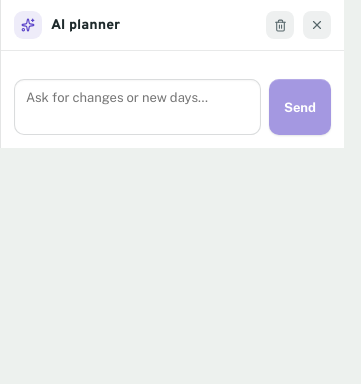
Test: ChatPanel › offers a Try again chip when the turn fails with a transient error
The width and height of the screenshot is (361, 384).
Type "plan it" into the text box with placeholder "Ask for changes or new days…" at (138, 107), box [14, 79, 261, 135]
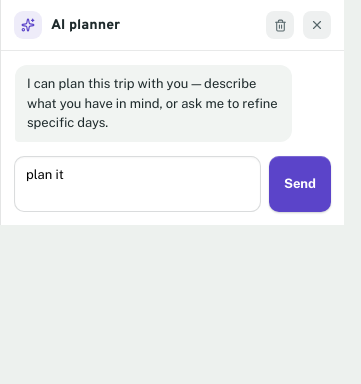
Click the button "Send" at (300, 184), box [269, 156, 331, 212]
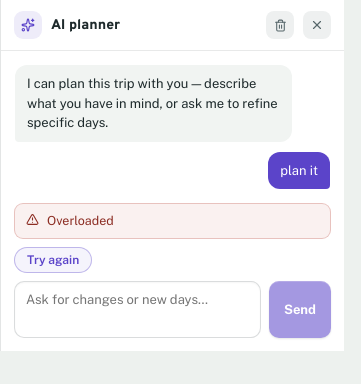
Expected: the text "Overloaded" is shown, [14, 203, 331, 239]
Click the button "Try again" at (53, 260), box [14, 247, 92, 273]
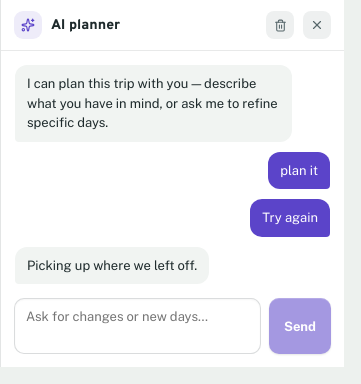
Expected: the text "Picking up where we left off." is shown, [15, 246, 209, 284]
Expected: the text "Overloaded" is gone
